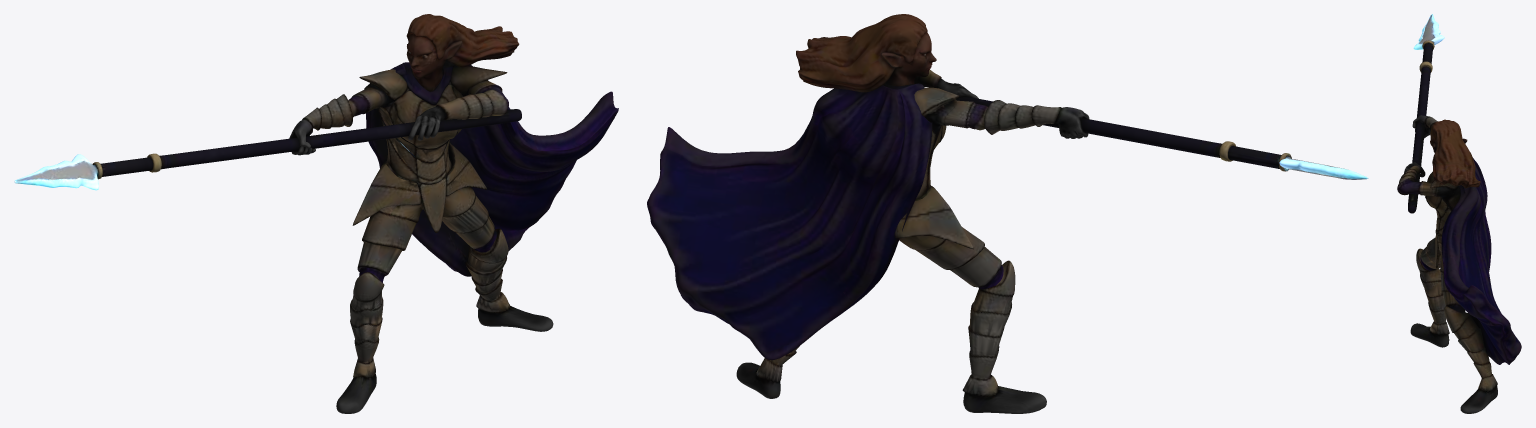
File: MZ4250 - Drow Inquisitor_Alt1.glb
The picture shows the model from 3 angles, left to right: view 1: azimuth 30°, elevation 25°; view 2: azimuth 150°, elevation 25°; view 3: azimuth 270°, elevation 25°; orthographic projection. The views are drawn at different scales.
Visible parts, largest first — view 1: Body.002; view 2: Body.002; view 3: Body.002.
Part boxes in pixels (x1=…): Body.002: x1=14, y1=14, x2=618, y2=413; Body.002: x1=647, y1=14, x2=1368, y2=413; Body.002: x1=1397, y1=14, x2=1521, y2=413.
Size of the model in its own units: 161 by 86.29 by 39.45.
1 material, 1 textured.
